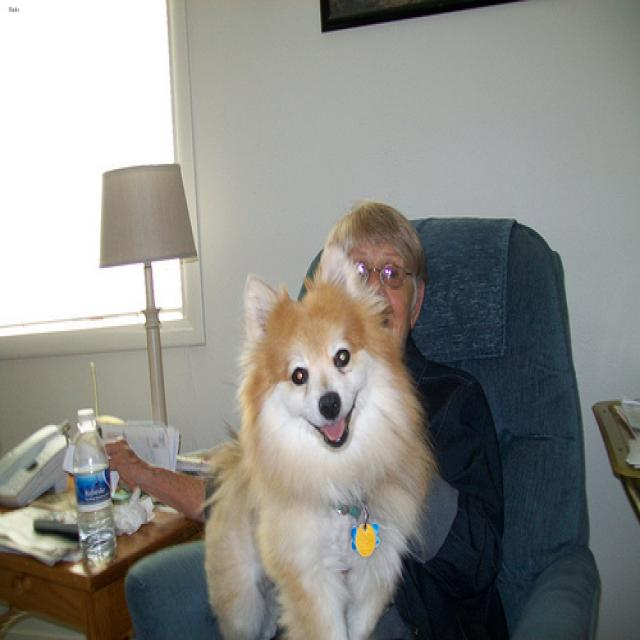dog-pomeranian: (196, 236, 440, 637)
